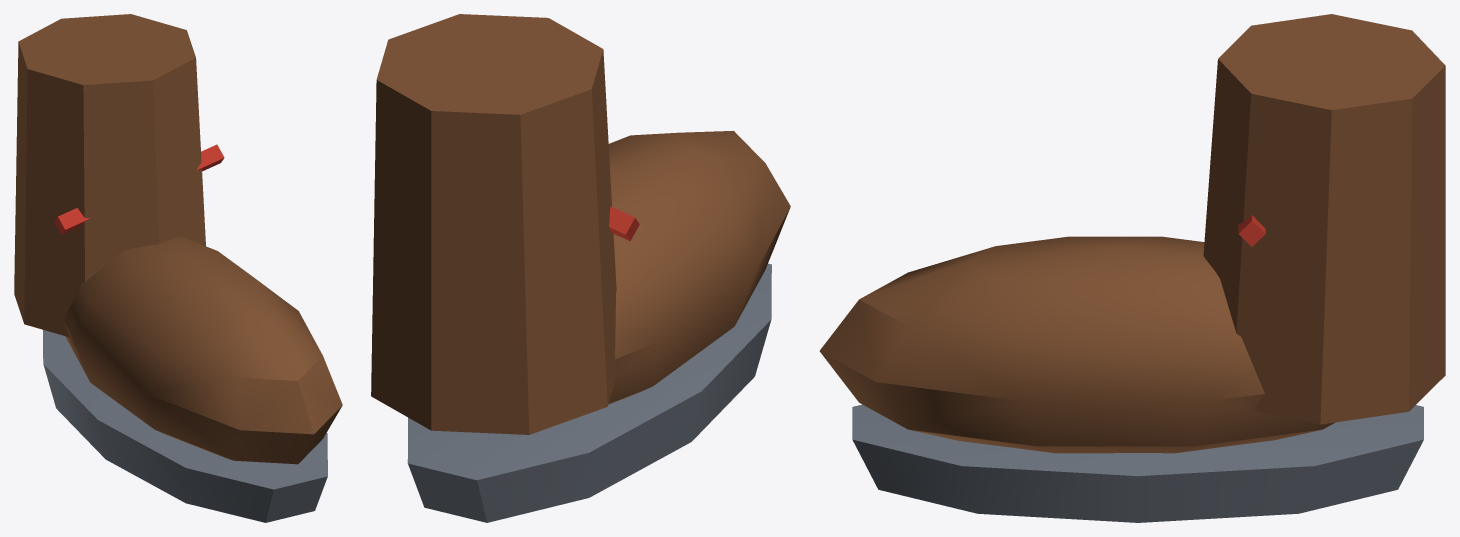
Rendered from Junk_Shoe.fbx.
The picture shows the model from 3 angles, left to right: view 1: azimuth 30°, elevation 25°; view 2: azimuth 150°, elevation 25°; view 3: azimuth 270°, elevation 25°; orthographic projection. The views are drawn at different scales.
Parts seen in each view (by area): view 1: Item; view 2: Item; view 3: Item.
Boxes of the visible parts, box(x1,y1,x2,y2) form: Item: box(14, 14, 342, 522); Item: box(371, 14, 790, 522); Item: box(819, 14, 1445, 522).
Size of the model in its own units: 0.11 by 0.2017 by 0.275.
